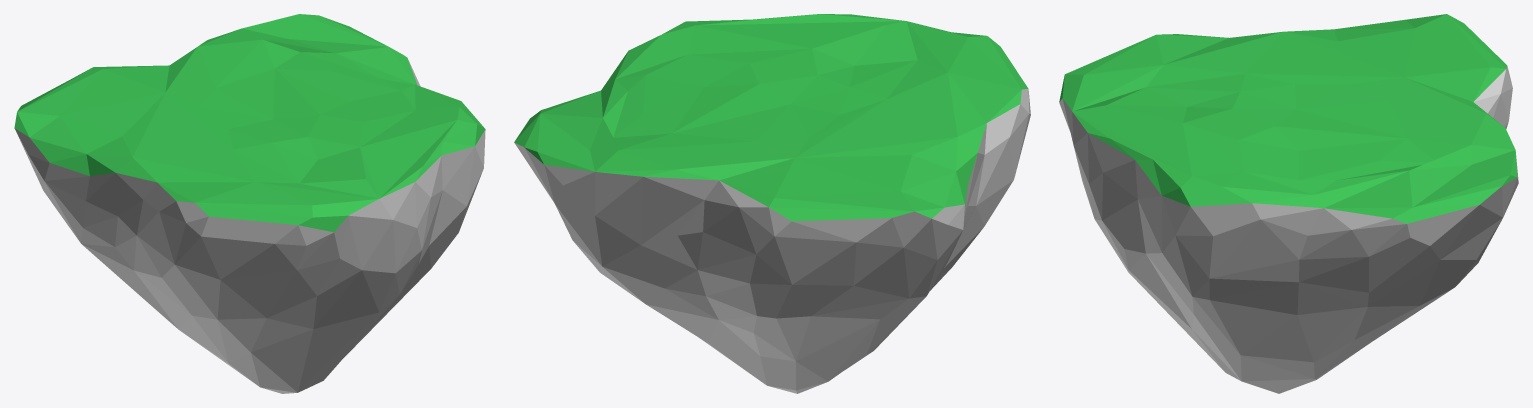
File: island_12.fbx
The picture shows the model from 3 angles, left to right: view 1: azimuth 30°, elevation 25°; view 2: azimuth 150°, elevation 25°; view 3: azimuth 270°, elevation 25°; orthographic projection. The views are drawn at different scales.
Visible parts, largest first — view 1: Plane; view 2: Plane; view 3: Plane.
Part boxes in pixels (bbox=[...]): Plane: bbox=[14, 14, 485, 393]; Plane: bbox=[514, 14, 1030, 393]; Plane: bbox=[1059, 14, 1518, 393].
Size of the model in its own units: 3096 by 2149 by 3090.
